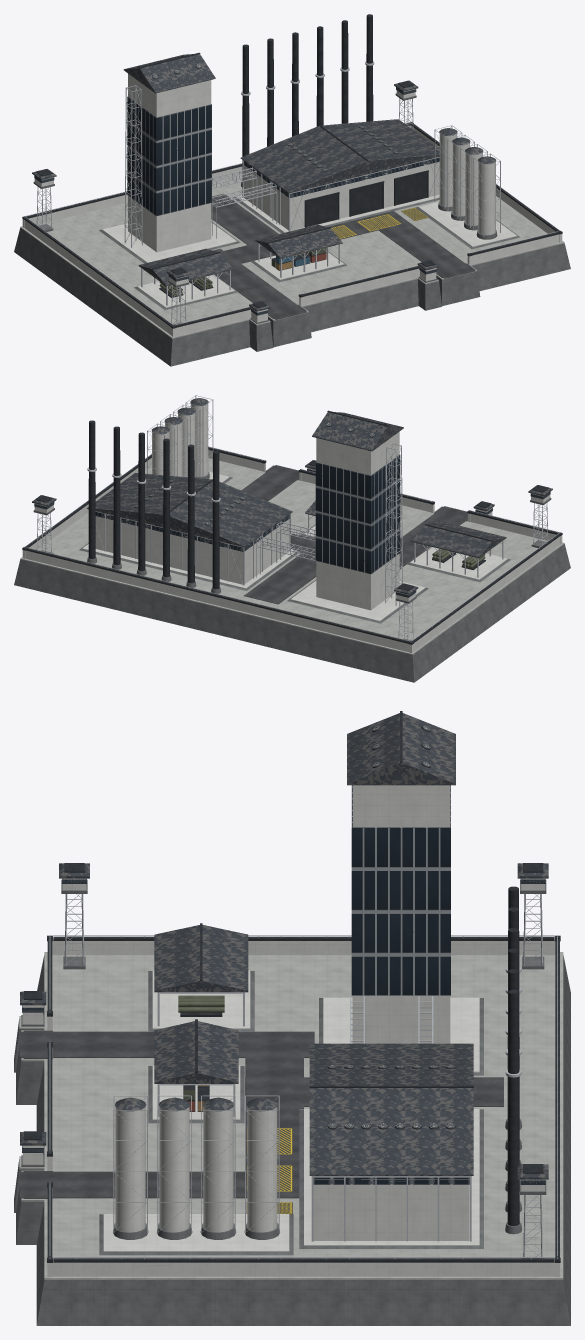
Rendered from abm_plant_lvl3.glb.
3 views of the same model, one above another, from view 1: azimuth 30°, elevation 25°; view 2: azimuth 150°, elevation 25°; view 3: azimuth 270°, elevation 25° (orthographic). The views are drawn at different scales.
Visible parts, largest first — view 1: PLT_L3_ConcLight, PLT_L3_ConcDark, PLT_L3_ConcMid, PLT_L3_RoofCorr, PLT_L3_WindowDark, PLT_L3_SteelDark, PLT_L3_SteelTruss, PLT_L3_Asphalt, PLT_L3_DoorCorr, PLT_L3_HatchZone; view 2: PLT_L3_ConcLight, PLT_L3_ConcDark, PLT_L3_ConcMid, PLT_L3_RoofCorr, PLT_L3_SteelDark, PLT_L3_WindowDark, PLT_L3_SteelTruss, PLT_L3_Asphalt; view 3: PLT_L3_ConcLight, PLT_L3_ConcMid, PLT_L3_RoofCorr, PLT_L3_ConcDark, PLT_L3_WindowDark, PLT_L3_Asphalt, PLT_L3_SteelDark, PLT_L3_SteelTruss, PLT_L3_HatchZone, PLT_L3_MilOlive, PLT_L3_RoofVent.
Part boxes in pixels (x1=…): PLT_L3_ConcLight: x1=22, y1=73, x2=562, y2=336; PLT_L3_ConcDark: x1=14, y1=93, x2=570, y2=366; PLT_L3_ConcMid: x1=20, y1=175, x2=564, y2=338; PLT_L3_RoofCorr: x1=32, y1=54, x2=496, y2=311; PLT_L3_WindowDark: x1=34, y1=87, x2=439, y2=315; PLT_L3_SteelDark: x1=22, y1=14, x2=562, y2=328; PLT_L3_SteelTruss: x1=24, y1=61, x2=560, y2=325; PLT_L3_Asphalt: x1=211, y1=193, x2=475, y2=319; PLT_L3_DoorCorr: x1=306, y1=172, x2=427, y2=227; PLT_L3_HatchZone: x1=331, y1=207, x2=428, y2=238; PLT_L3_ConcLight: x1=22, y1=403, x2=562, y2=652; PLT_L3_ConcDark: x1=14, y1=472, x2=570, y2=682; PLT_L3_ConcMid: x1=20, y1=458, x2=564, y2=654; PLT_L3_RoofCorr: x1=32, y1=398, x2=552, y2=594; PLT_L3_SteelDark: x1=22, y1=410, x2=562, y2=644; PLT_L3_WindowDark: x1=34, y1=454, x2=550, y2=597; PLT_L3_SteelTruss: x1=24, y1=395, x2=560, y2=641; PLT_L3_Asphalt: x1=241, y1=465, x2=467, y2=604; PLT_L3_ConcLight: x1=22, y1=785, x2=559, y2=1276; PLT_L3_ConcMid: x1=19, y1=952, x2=563, y2=1279; PLT_L3_RoofCorr: x1=20, y1=713, x2=548, y2=1179; PLT_L3_ConcDark: x1=14, y1=879, x2=570, y2=1325; PLT_L3_WindowDark: x1=22, y1=785, x2=545, y2=1184; PLT_L3_Asphalt: x1=19, y1=1030, x2=503, y2=1198; PLT_L3_SteelDark: x1=23, y1=711, x2=560, y2=1262; PLT_L3_SteelTruss: x1=49, y1=894, x2=557, y2=1259; PLT_L3_HatchZone: x1=246, y1=1128, x2=292, y2=1214; PLT_L3_MilOlive: x1=178, y1=995, x2=224, y2=1099; PLT_L3_RoofVent: x1=328, y1=725, x2=455, y2=1128.
Bounding box in the file's own units: 162 × 77.98 × 114.
Materials: 15 (15 with a texture image).
